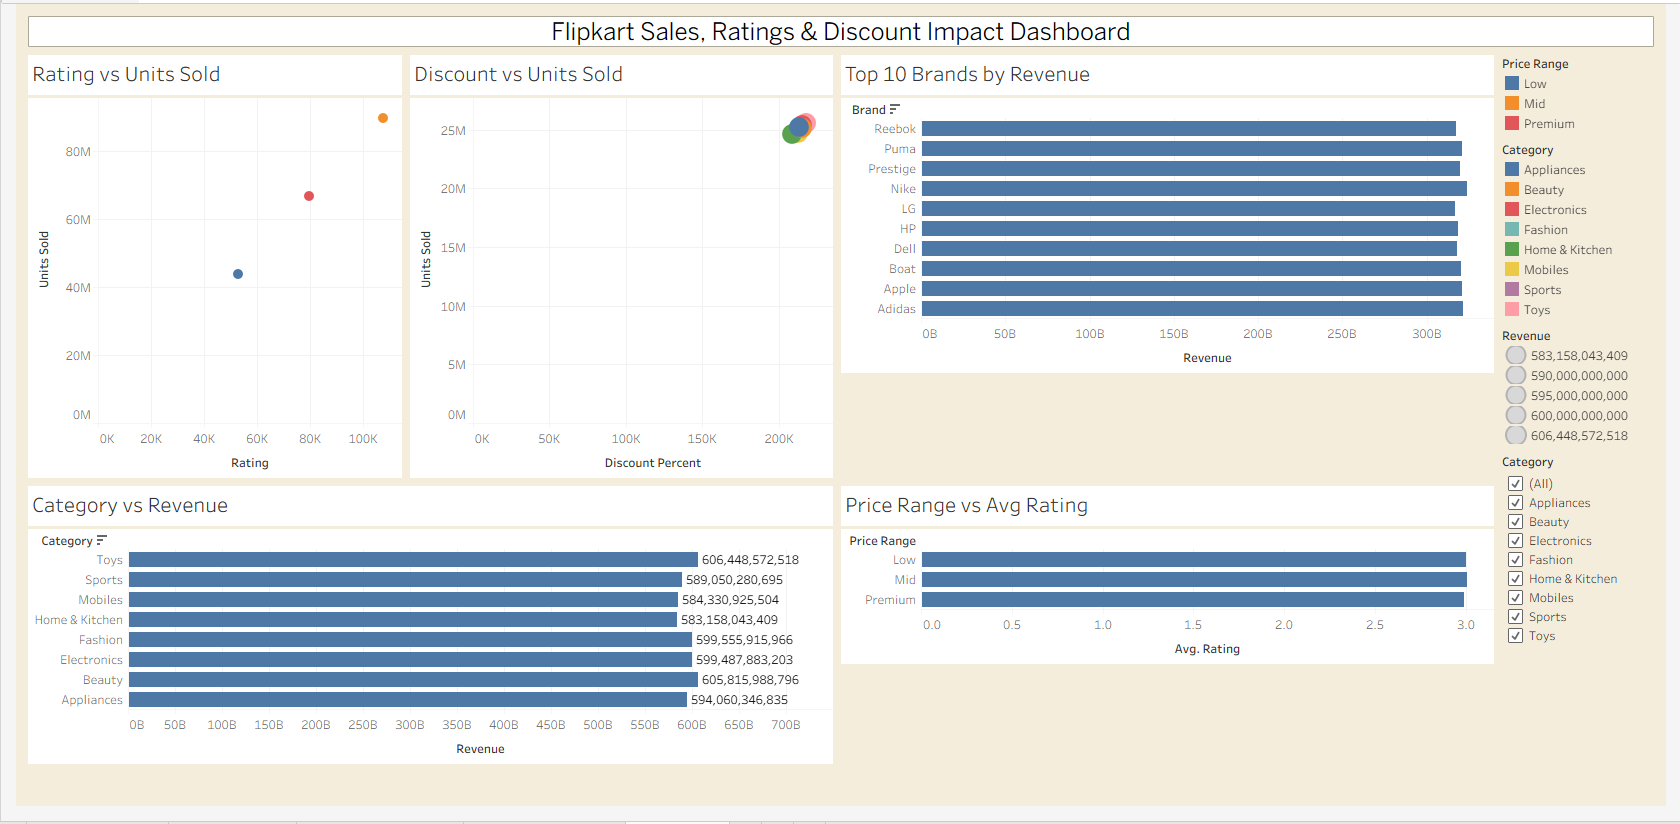

This screenshot's page, from the dashboard's own definition file:
{"tool":"tableau","page":{"name":"Dashboard 1","canvas":[1000,1000],"units":"permille","ordinal":0},"visuals":[{"type":"title","box":[4.9,10,990.3,48.6]},{"type":"worksheet","title":"Rating vs Units Sold","mark":"Circle","rows":["units_sold"],"cols":["rating"],"box":[4.9,58.6,231.3,537.4]},{"type":"worksheet","title":"Discount vs Units Sold","mark":"Circle","rows":["units_sold"],"cols":["discount_percent"],"box":[236.2,58.6,261.5,537.4]},{"type":"worksheet","title":"Top 10 Brands by Revenue","mark":"Automatic","rows":["brand"],"cols":["Calculation_1817251553476609"],"box":[497.7,58.6,400.5,537.4]},{"type":"legend","title":"Rating vs Units Sold","param":"[federated.0q05j8k0dre1rv13gs1yv0ihkaf5].[none:Calculation_1817251553869827:nk]","box":[898.2,58.6,97,107.2]},{"type":"legend","title":"Discount vs Units Sold","param":"[federated.0q05j8k0dre1rv13gs1yv0ihkaf5].[none:category:nk]","box":[898.2,165.8,97,231.9]},{"type":"legend","title":"Discount vs Units Sold","param":"[federated.0q05j8k0dre1rv13gs1yv0ihkaf5].[sum:Calculation_1817251553476609:qk]","box":[898.2,397.8,97,157.1]},{"type":"filter","title":"Category vs Revenue","param":"[federated.0q05j8k0dre1rv13gs1yv0ihkaf5].[none:category:nk]","box":[898.2,554.9,97,253.1]},{"type":"worksheet","title":"Category vs Revenue","mark":"Bar","rows":["category"],"cols":["Calculation_1817251553476609"],"box":[4.9,596,492.8,394]},{"type":"worksheet","title":"Price Range vs Avg Rating","mark":"Bar","rows":["Calculation_1817251553869827"],"cols":["rating"],"box":[497.7,596,400.5,394]}]}

Visuals, with their boxes on the dashboard's canvas, which has no fixed pixel size, in thousandths of its width and height (x1, y1, x2, y2). These are canvas units, not pixel positions in the 1680x824 screenshot, which may show the page scaled, cropped or inside an application window:
title: {"x1": 5, "y1": 10, "x2": 995, "y2": 59}
"Rating vs Units Sold" worksheet (Circle marks): {"x1": 5, "y1": 59, "x2": 236, "y2": 596}
"Discount vs Units Sold" worksheet (Circle marks): {"x1": 236, "y1": 59, "x2": 498, "y2": 596}
"Top 10 Brands by Revenue" worksheet: {"x1": 498, "y1": 59, "x2": 898, "y2": 596}
"Rating vs Units Sold" legend: {"x1": 898, "y1": 59, "x2": 995, "y2": 166}
"Discount vs Units Sold" legend: {"x1": 898, "y1": 166, "x2": 995, "y2": 398}
"Discount vs Units Sold" legend: {"x1": 898, "y1": 398, "x2": 995, "y2": 555}
"Category vs Revenue" filter: {"x1": 898, "y1": 555, "x2": 995, "y2": 808}
"Category vs Revenue" worksheet (Bar marks): {"x1": 5, "y1": 596, "x2": 498, "y2": 990}
"Price Range vs Avg Rating" worksheet (Bar marks): {"x1": 498, "y1": 596, "x2": 898, "y2": 990}
